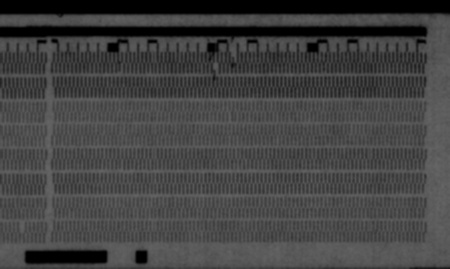Broken hole: (17, 220, 27, 234)
Oblique printing: (210, 64, 223, 79), (228, 52, 240, 65), (115, 62, 126, 76)
